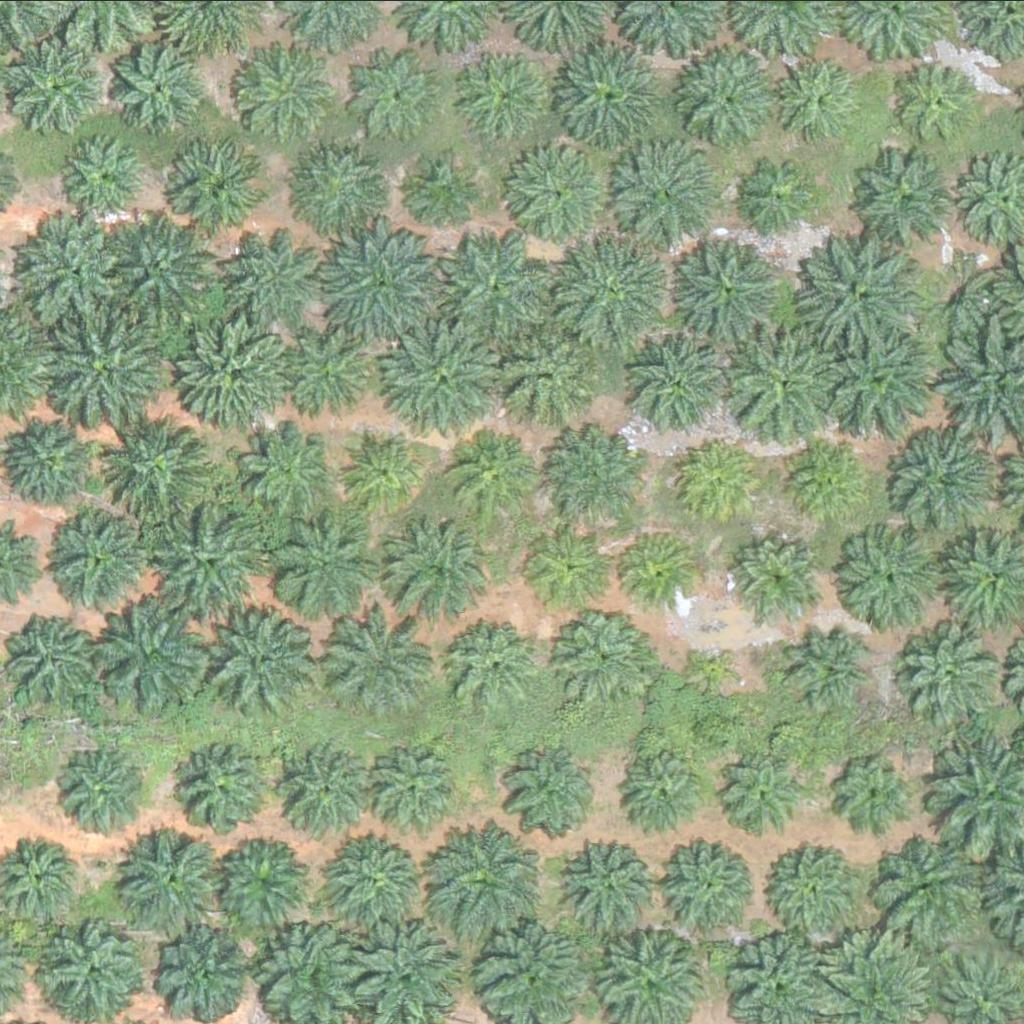Kelapa_Sawit: (720, 314, 846, 439), (805, 315, 931, 440), (787, 227, 913, 352), (552, 38, 666, 151), (100, 413, 214, 526), (507, 133, 620, 246), (556, 231, 669, 344), (322, 227, 435, 340), (51, 315, 164, 428), (171, 318, 284, 431), (231, 420, 344, 533), (425, 821, 538, 934), (389, 311, 503, 423), (265, 509, 379, 621), (381, 512, 495, 624), (97, 603, 211, 715), (613, 137, 727, 249), (440, 229, 553, 341), (102, 210, 215, 322), (15, 215, 128, 327), (156, 504, 269, 616), (113, 828, 226, 940), (41, 911, 154, 1023), (671, 237, 784, 349), (675, 32, 788, 144), (209, 224, 310, 324), (329, 620, 430, 720), (57, 744, 158, 844), (278, 739, 379, 839), (367, 738, 468, 838), (319, 829, 420, 929), (211, 837, 312, 937), (894, 430, 995, 530), (171, 135, 271, 235), (492, 320, 592, 420), (47, 507, 147, 607), (549, 611, 649, 711), (216, 616, 316, 716), (172, 735, 272, 835), (762, 835, 862, 935), (879, 839, 979, 939), (898, 623, 998, 723), (838, 521, 938, 621), (860, 139, 960, 239), (552, 433, 641, 521), (339, 426, 427, 514), (461, 50, 549, 138), (7, 46, 95, 134), (61, 136, 149, 224), (285, 337, 373, 425), (451, 434, 539, 522), (447, 623, 535, 711), (561, 839, 649, 927), (612, 523, 700, 611), (613, 743, 702, 830), (237, 44, 325, 131), (111, 45, 199, 132), (292, 143, 380, 230), (527, 522, 615, 609), (506, 747, 594, 834), (669, 837, 757, 924), (634, 337, 722, 424), (785, 437, 861, 512), (363, 53, 439, 128), (742, 540, 818, 615), (681, 439, 757, 514), (744, 154, 820, 229), (841, 756, 916, 831), (725, 756, 800, 831), (792, 622, 867, 697), (782, 57, 857, 132), (907, 60, 982, 135), (411, 158, 474, 221), (934, 253, 997, 315), (694, 650, 744, 700)
